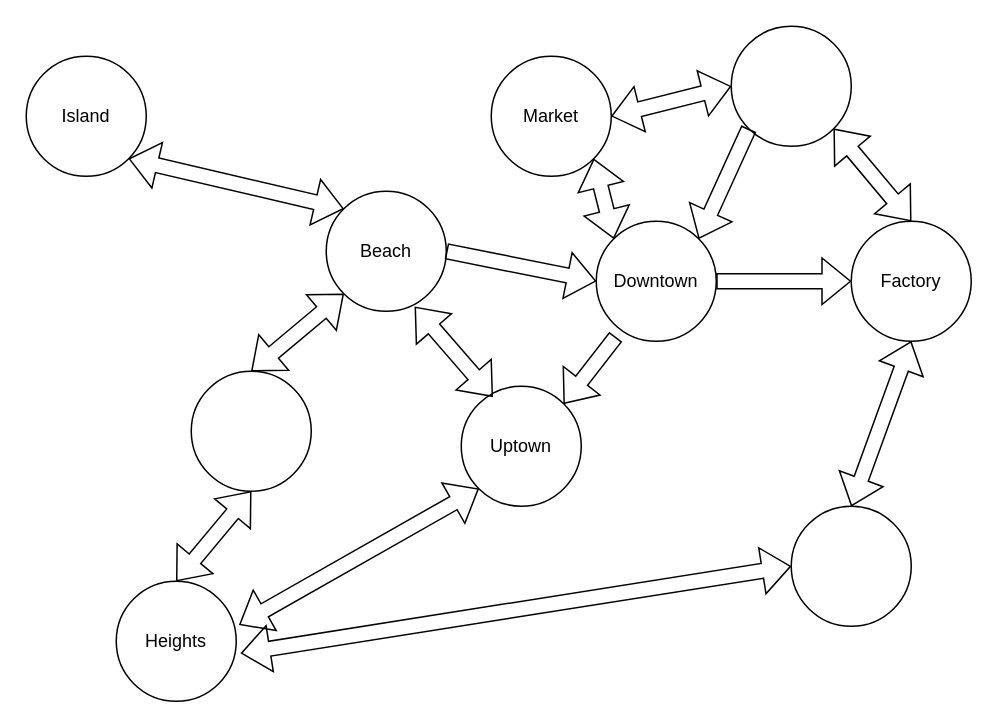
This 998x728 diagram has some shape labels left out. The shapes that lost their labels are listed below. From the top down, each one's box as (x1, y1, x2, y2) in pixels, then its label:
(730, 25, 851, 146): Nightlife
(190, 370, 311, 491): Golf Course
(790, 505, 911, 626): Park
